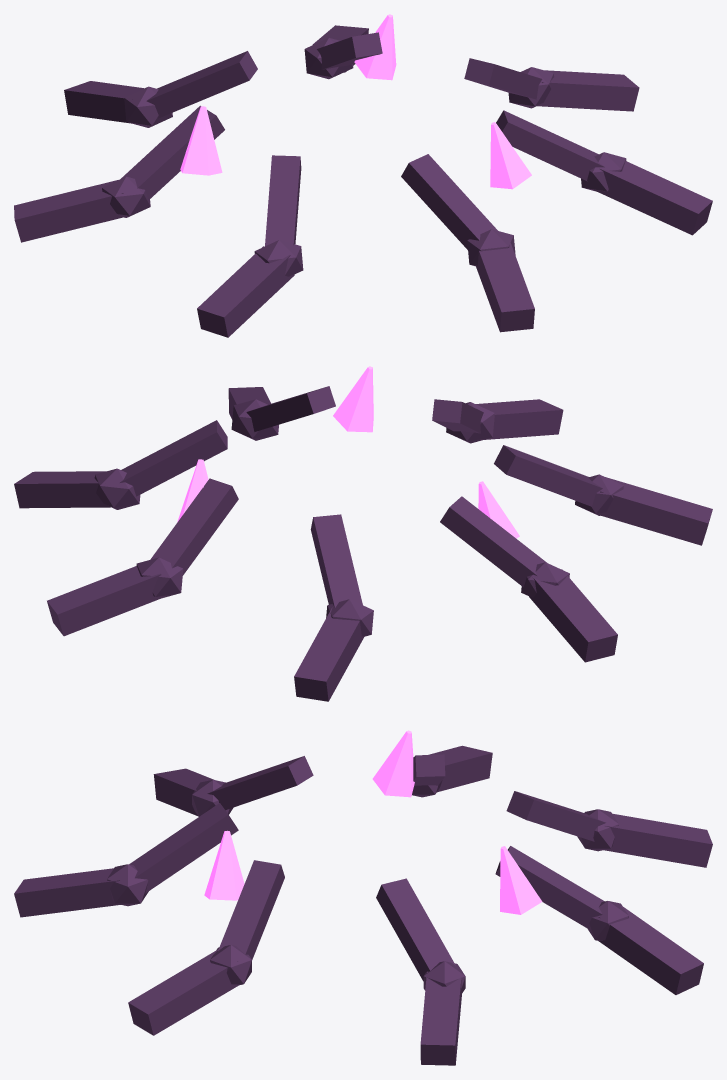
Rendered from wellspring_roots.glb.
3 renders of one model, top to bottom at view 1: azimuth 30°, elevation 25°; view 2: azimuth 150°, elevation 25°; view 3: azimuth 270°, elevation 25°, orthographic.
Visible parts, largest first — view 1: Wellspring_Roots_Outer_7, Wellspring_Roots_Outer_5, Wellspring_Roots_Outer_4, Wellspring_Roots_Inner_6, Wellspring_Roots_Outer_6, Wellspring_Roots_Outer_1, Wellspring_Roots_Inner_3, Wellspring_Roots_Inner_7, Wellspring_Roots_Inner_4, Wellspring_Roots_Inner_5, Wellspring_Roots_Outer_3, Wellspring_Roots_Bud_2 (+12 smaller); view 2: Wellspring_Roots_Outer_2, Wellspring_Roots_Outer_4, Wellspring_Roots_Outer_5, Wellspring_Roots_Inner_4, Wellspring_Roots_Outer_3, Wellspring_Roots_Inner_2, Wellspring_Roots_Inner_1, Wellspring_Roots_Outer_1, Wellspring_Roots_Inner_3, Wellspring_Roots_Inner_5, Wellspring_Roots_Outer_6, Wellspring_Roots_Inner_7 (+12 smaller); view 3: Wellspring_Roots_Outer_7, Wellspring_Roots_Outer_2, Wellspring_Roots_Outer_3, Wellspring_Roots_Inner_6, Wellspring_Roots_Outer_6, Wellspring_Roots_Inner_1, Wellspring_Roots_Inner_7, Wellspring_Roots_Outer_1, Wellspring_Roots_Inner_2, Wellspring_Roots_Inner_5, Wellspring_Roots_Inner_3, Wellspring_Roots_Outer_4 (+11 smaller).
Boxes of the visible parts, x1,y1,x2,y2 form: Wellspring_Roots_Outer_7: [594, 161, 712, 235]; Wellspring_Roots_Outer_5: [197, 246, 294, 337]; Wellspring_Roots_Outer_4: [14, 180, 127, 242]; Wellspring_Roots_Inner_6: [401, 154, 497, 249]; Wellspring_Roots_Outer_6: [476, 238, 534, 332]; Wellspring_Roots_Outer_1: [536, 70, 639, 111]; Wellspring_Roots_Inner_3: [146, 51, 257, 118]; Wellspring_Roots_Inner_7: [496, 110, 604, 181]; Wellspring_Roots_Inner_4: [121, 105, 224, 199]; Wellspring_Roots_Inner_5: [265, 155, 301, 247]; Wellspring_Roots_Outer_3: [64, 81, 143, 124]; Wellspring_Roots_Bud_2: [180, 106, 222, 175]; Wellspring_Roots_Outer_2: [47, 566, 167, 636]; Wellspring_Roots_Outer_4: [529, 569, 617, 662]; Wellspring_Roots_Outer_5: [594, 477, 712, 545]; Wellspring_Roots_Inner_4: [440, 496, 546, 587]; Wellspring_Roots_Outer_3: [294, 607, 364, 701]; Wellspring_Roots_Inner_2: [150, 478, 238, 575]; Wellspring_Roots_Inner_1: [120, 420, 227, 496]; Wellspring_Roots_Outer_1: [14, 471, 110, 508]; Wellspring_Roots_Inner_3: [310, 514, 362, 607]; Wellspring_Roots_Inner_5: [494, 445, 602, 506]; Wellspring_Roots_Outer_6: [475, 399, 563, 440]; Wellspring_Roots_Inner_7: [246, 386, 335, 431]; Wellspring_Roots_Outer_7: [128, 949, 239, 1035]; Wellspring_Roots_Outer_2: [598, 906, 703, 994]; Wellspring_Roots_Outer_3: [598, 813, 712, 867]; Wellspring_Roots_Inner_6: [129, 803, 238, 893]; Wellspring_Roots_Outer_6: [14, 868, 125, 917]; Wellspring_Roots_Inner_1: [376, 878, 455, 981]; Wellspring_Roots_Inner_7: [218, 860, 284, 959]; Wellspring_Roots_Outer_1: [420, 971, 461, 1065]; Wellspring_Roots_Inner_2: [495, 846, 604, 930]; Wellspring_Roots_Inner_5: [207, 756, 313, 810]; Wellspring_Roots_Inner_3: [506, 791, 605, 841]; Wellspring_Roots_Outer_4: [428, 745, 492, 792].
Bounding box in the file's own units: 4.88 × 0.8923 × 4.81.
